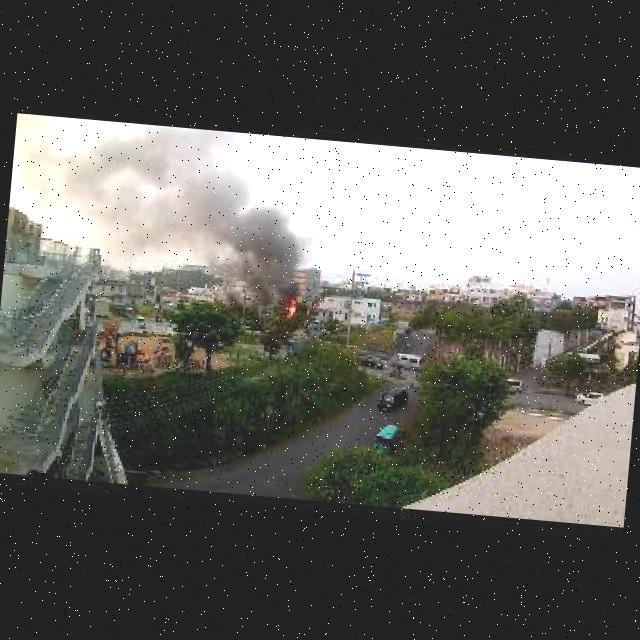Fire: (282, 299, 298, 318)
Smoke: (33, 117, 264, 270), (213, 197, 318, 291)
